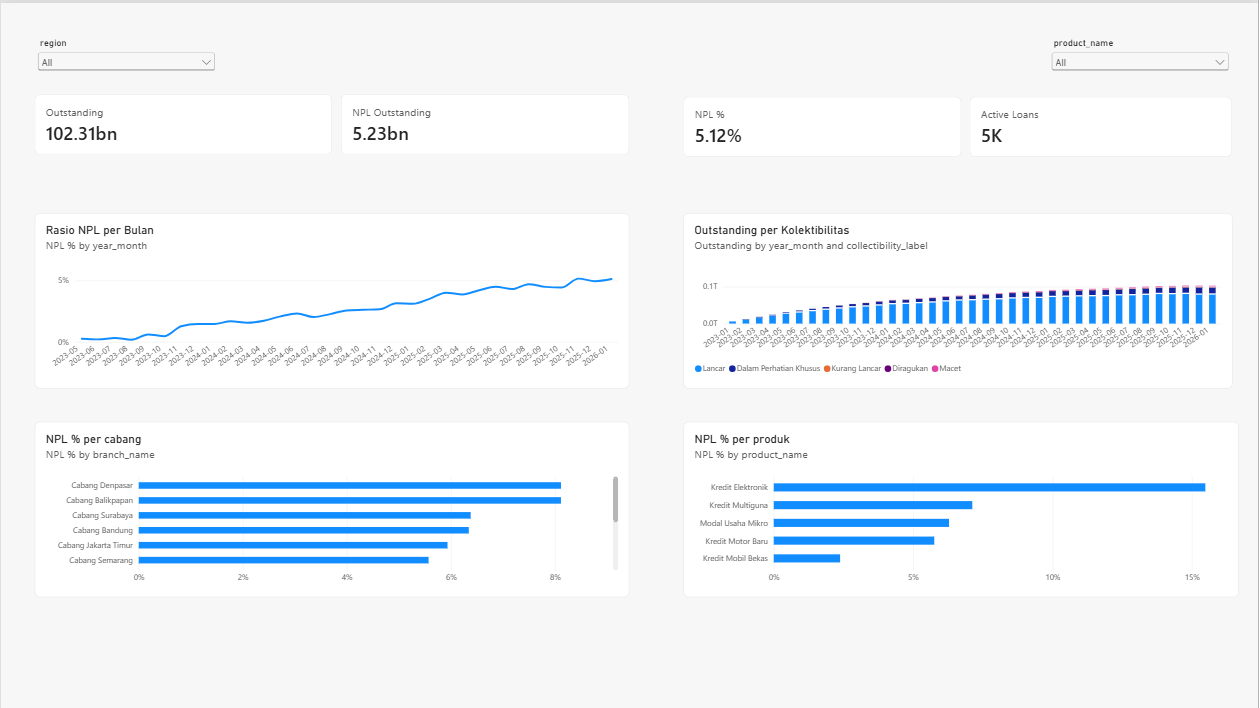

Layout of this report page (visuals, bound fields, positions):
{"tool":"powerbi","page":{"name":"Kualitas Kredit","canvas":[1920,1080],"ordinal":0},"visuals":[{"type":"slicer","fields":{"Values":["dim_branch.region"]},"box":[52,52,280.1,268.1],"z":0},{"type":"slicer","fields":{"Values":["dim_product.product_name"]},"box":[1600.3,52,280,268],"z":1000},{"type":"cardVisual","fields":{"Data":["fact_loan_monthly_snapshot.Outstanding"]},"box":[52,140,454.1,92],"z":2000},{"type":"cardVisual","fields":{"Data":["fact_loan_monthly_snapshot.NPL Outstanding"]},"box":[520.1,140,440.1,92],"z":3000},{"type":"cardVisual","fields":{"Data":["fact_loan_monthly_snapshot.Active Loans"]},"box":[1480.3,144,400.1,92],"z":4000},{"type":"cardVisual","fields":{"Data":["fact_loan_monthly_snapshot.NPL %"]},"box":[1042.2,144,424.1,92],"z":5000},{"type":"lineChart","title":"Rasio NPL per Bulan","fields":{"Category":["dim_date.year_month"],"Y":["fact_loan_monthly_snapshot.NPL %"]},"box":[52,320.1,908.2,268.1],"z":6000},{"type":"columnChart","title":"Outstanding per Kolektibilitas","fields":{"Category":["dim_date.year_month"],"Series":["fact_loan_monthly_snapshot.collectibility_label"],"Y":["fact_loan_monthly_snapshot.Outstanding"]},"box":[1042.2,320.1,838.2,268.1],"z":7000},{"type":"clusteredBarChart","title":"NPL % per cabang","fields":{"Category":["dim_branch.branch_name"],"Y":["fact_loan_monthly_snapshot.NPL %"]},"box":[52,640.1,908.2,268.1],"z":8000},{"type":"clusteredBarChart","title":"NPL % per produk","fields":{"Category":["dim_product.product_name"],"Y":["fact_loan_monthly_snapshot.NPL %"]},"box":[1042.2,640.1,848.2,268.1],"z":9000}]}

Visuals, with their boxes in screenshot pixels (x1, y1, x2, y2), scaled from the page's 1920x1080 canvas onto the 1260x708 screenshot:
slicer - dim_branch.region: [34,34,218,210]
slicer - dim_product.product_name: [1050,34,1234,210]
cardVisual - fact_loan_monthly_snapshot.Outstanding: [34,92,332,152]
cardVisual - fact_loan_monthly_snapshot.NPL Outstanding: [341,92,630,152]
cardVisual - fact_loan_monthly_snapshot.Active Loans: [971,94,1234,155]
cardVisual - fact_loan_monthly_snapshot.NPL %: [684,94,962,155]
"Rasio NPL per Bulan" lineChart: [34,210,630,386]
"Outstanding per Kolektibilitas" columnChart: [684,210,1234,386]
"NPL % per cabang" clusteredBarChart: [34,420,630,595]
"NPL % per produk" clusteredBarChart: [684,420,1241,595]
